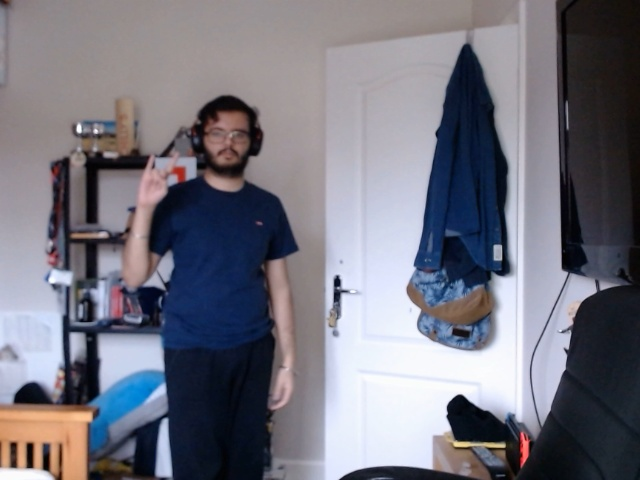Rock on: (126, 139, 187, 219)
